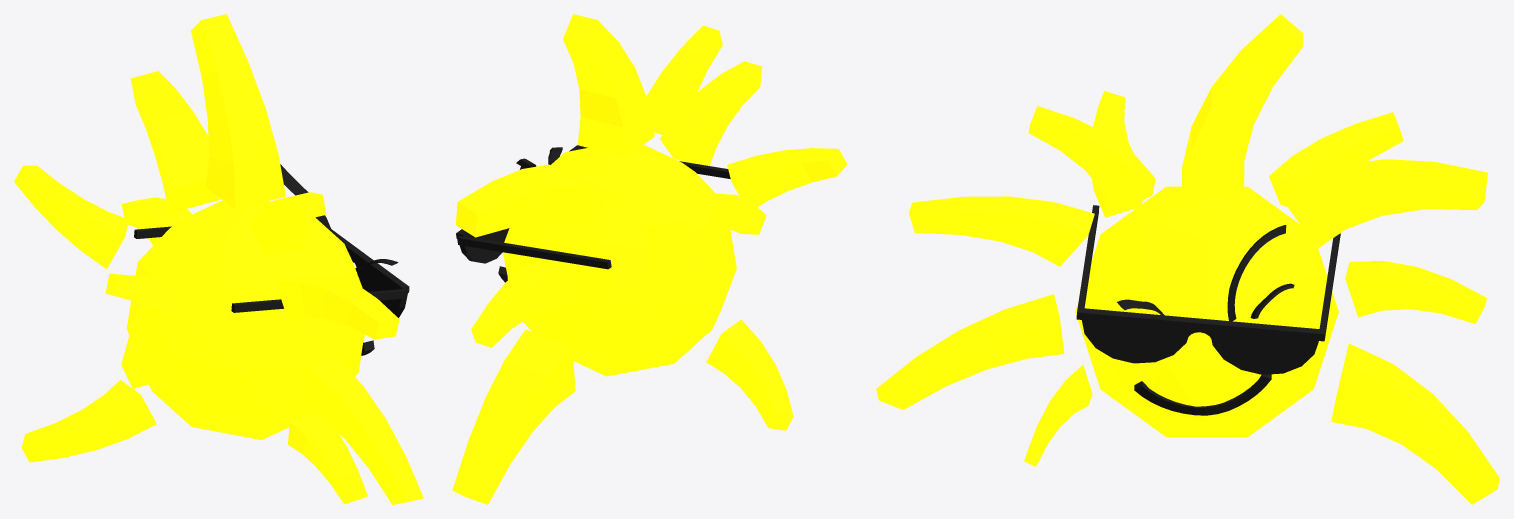
The model's file is sun.glb.
3 views of the same model, side by side, from view 1: azimuth 30°, elevation 25°; view 2: azimuth 150°, elevation 25°; view 3: azimuth 270°, elevation 25° (orthographic). The views are drawn at different scales.
Parts seen in each view (by area): view 1: Sun_Body, Sun_Face; view 2: Sun_Body, Sun_Face; view 3: Sun_Body, Sun_Face.
Boxes of the visible parts, x1,y1,x2,y2 form: Sun_Body: (14, 14, 423, 504); Sun_Face: (134, 164, 409, 355); Sun_Body: (452, 14, 847, 504); Sun_Face: (456, 145, 730, 282); Sun_Body: (876, 14, 1499, 504); Sun_Face: (1076, 205, 1340, 415).
Bounding box in the file's own units: 4.46 × 5.88 × 7.1.
